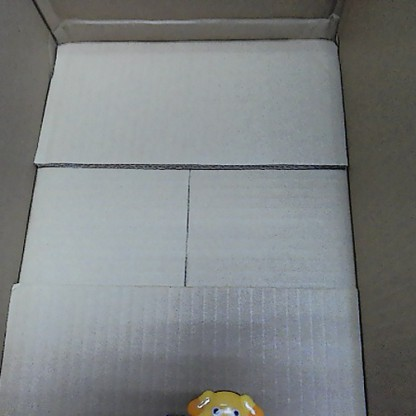dogclip: (179, 386, 269, 414)
